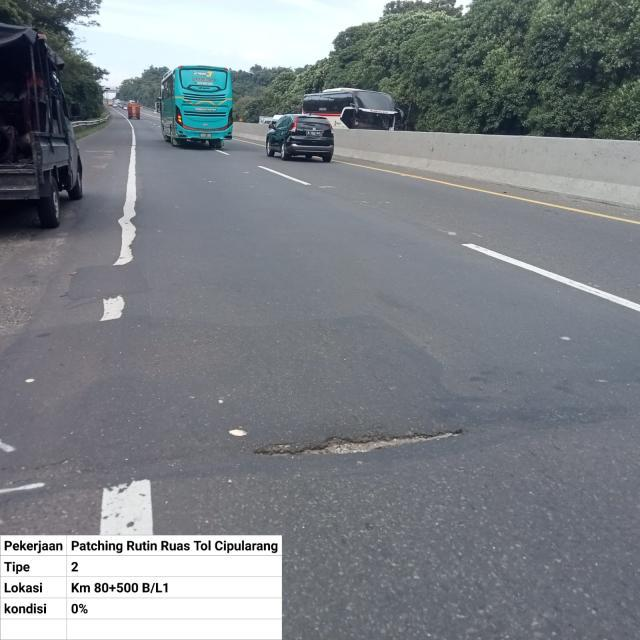Buraco: (248, 426, 468, 464)
